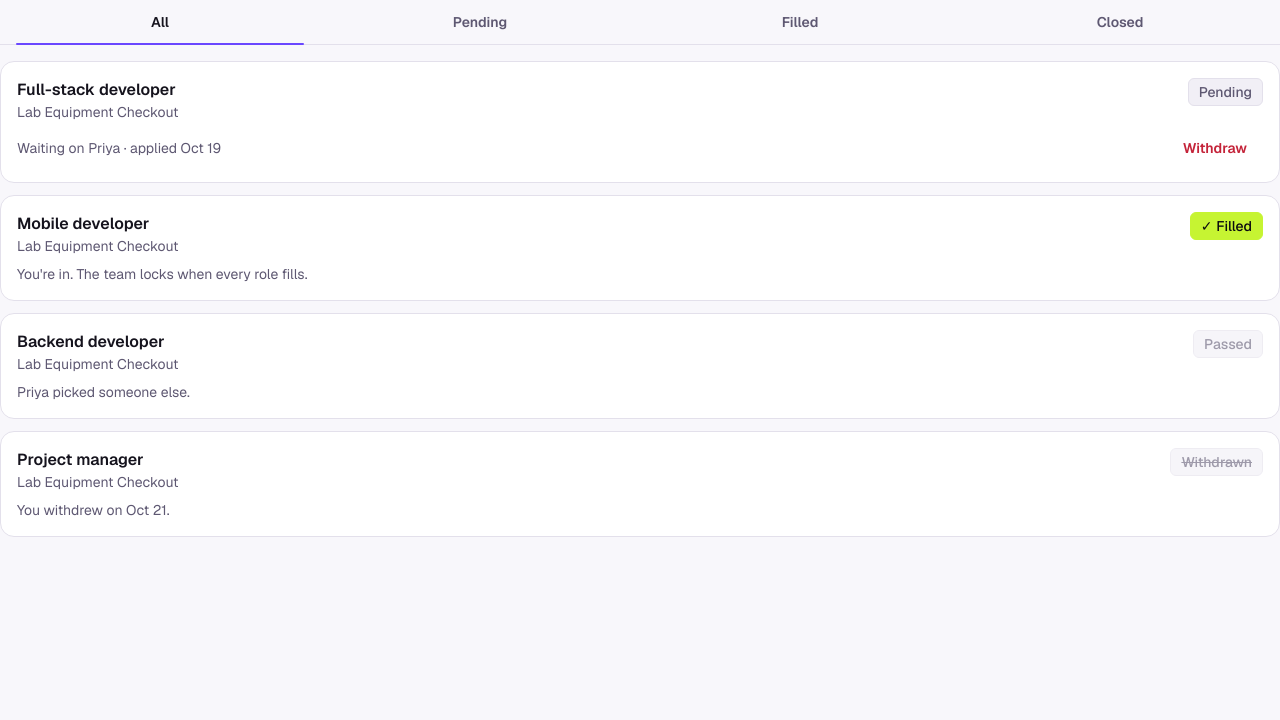
Test: shows the server's message when it's no longer pending
The width and height of the screenshot is (1280, 720).
What coordinates should you click on to do the following:
click the button with aria-label "Withdraw from Full-stack developer"
I would click on:
 (1215, 148)
Its box is [1167,130,1263,166].
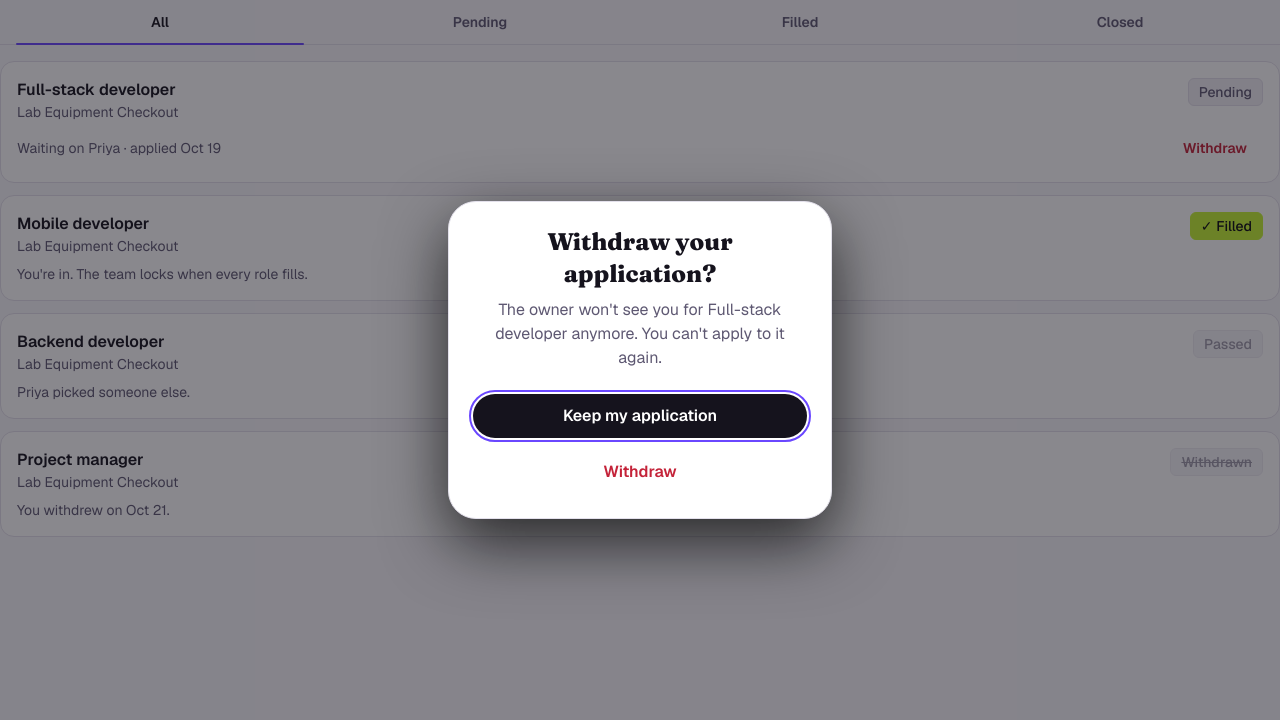
What coordinates should you click on to do the following:
click the button "Withdraw"
I would click on:
 (640, 472)
Its box is [583,450,697,494].
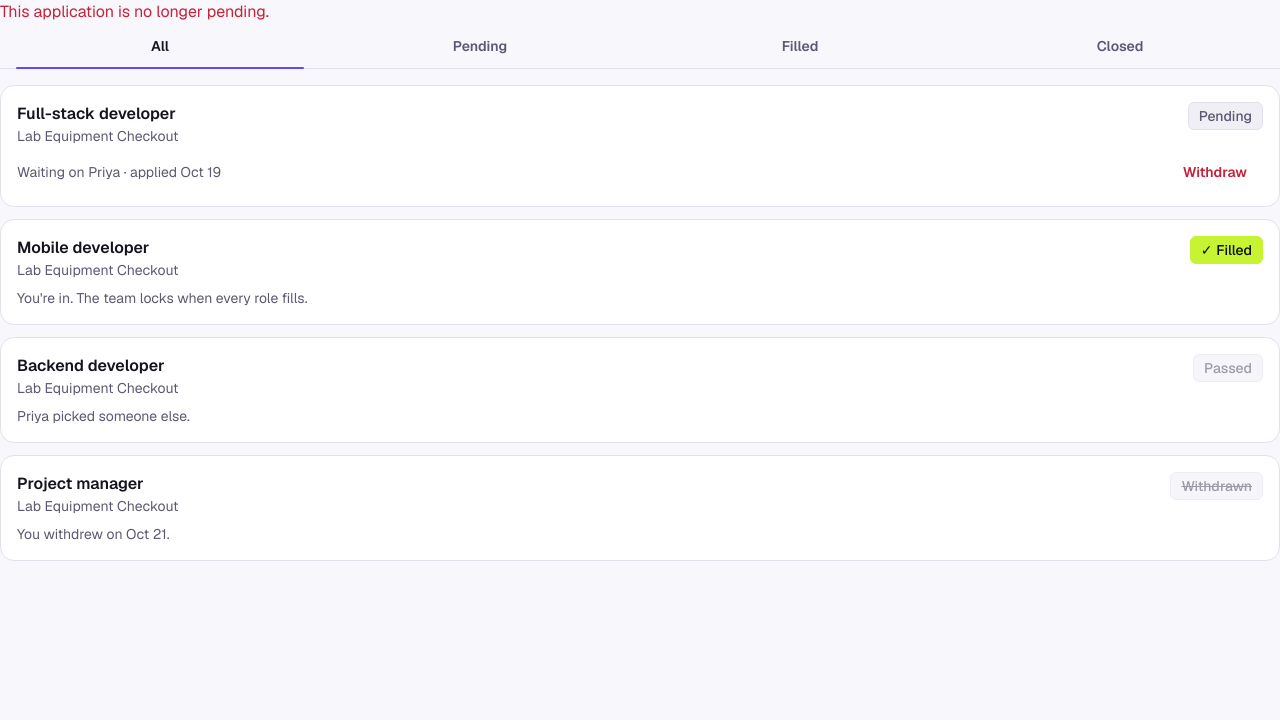
Now the message reads "This application is no longer pending.", box [0,1,269,22]
